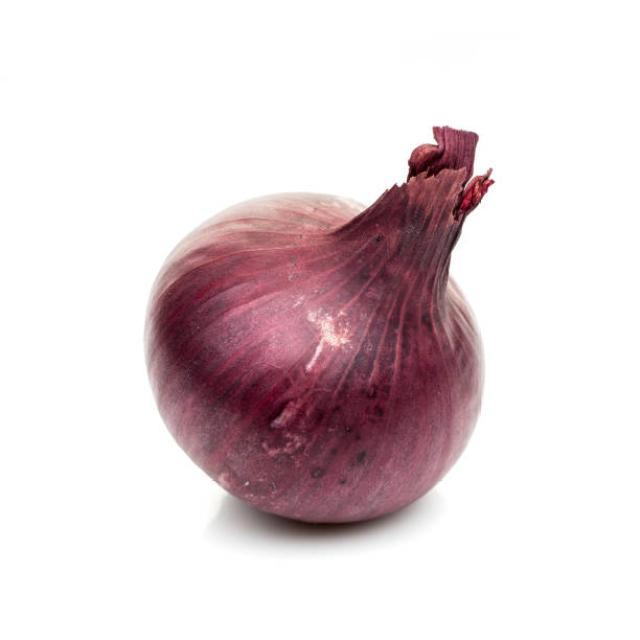onion: (132, 169, 495, 531)
